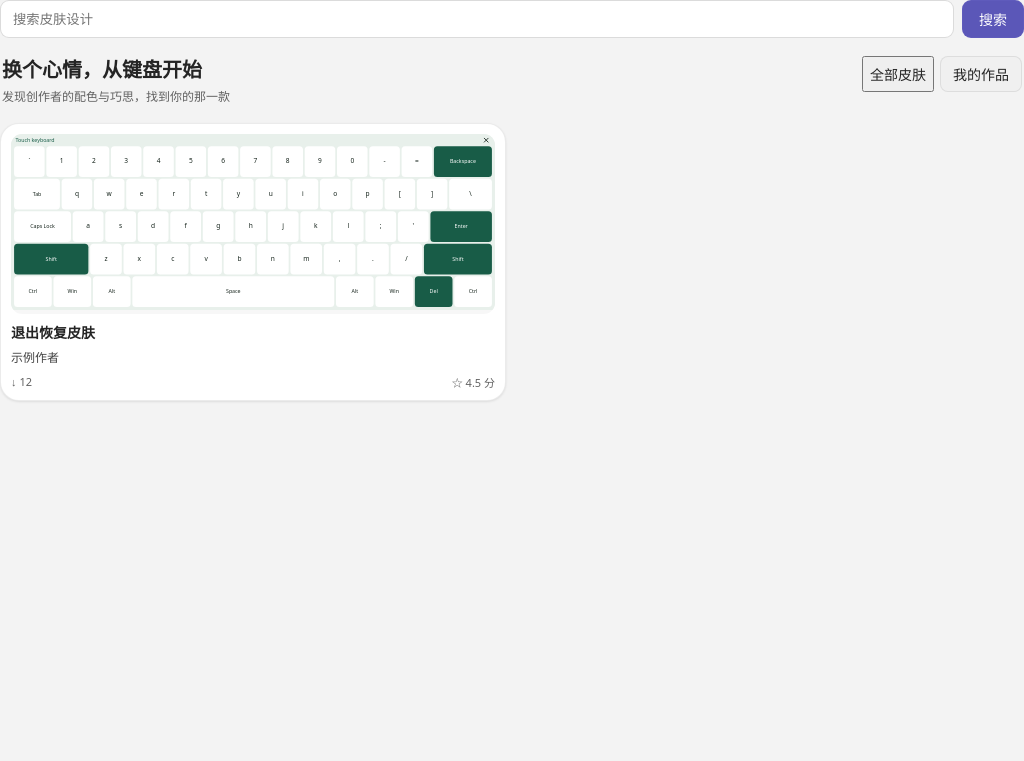
Test: leaving an active trial restores it and keeping it suppresses later recovery
Click the button with aria-label "查看皮肤 退出恢复皮肤" at (253, 262), box [0,123,506,401]
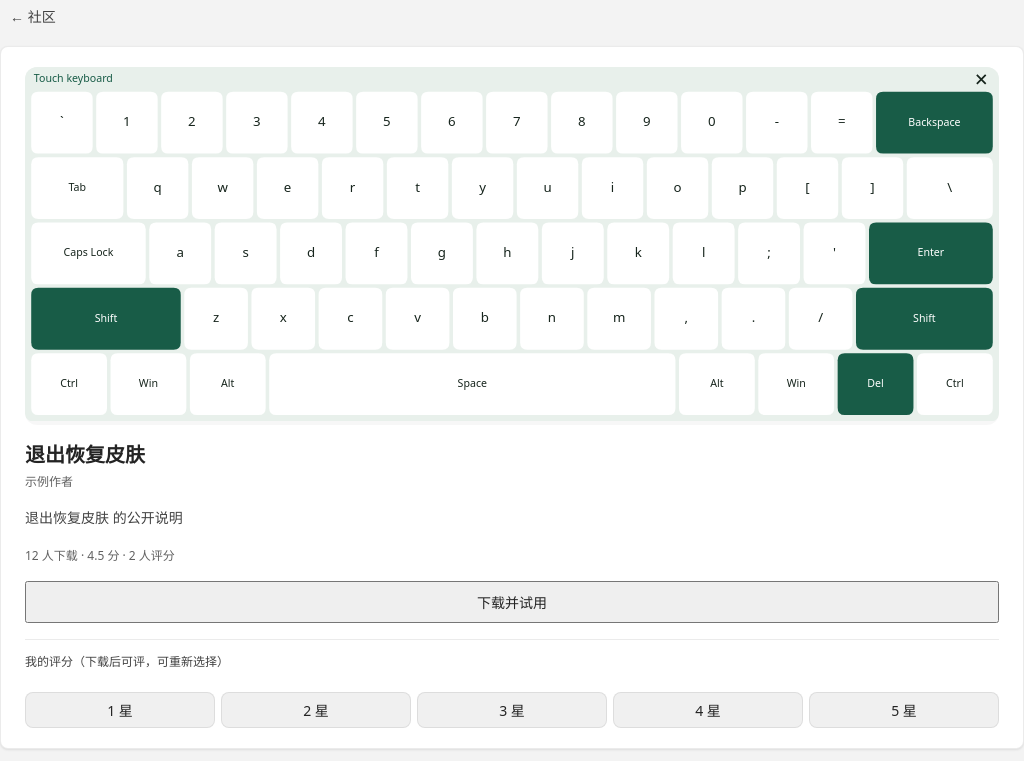
Click the button "下载并试用" at (512, 602), box [25,582,999,624]
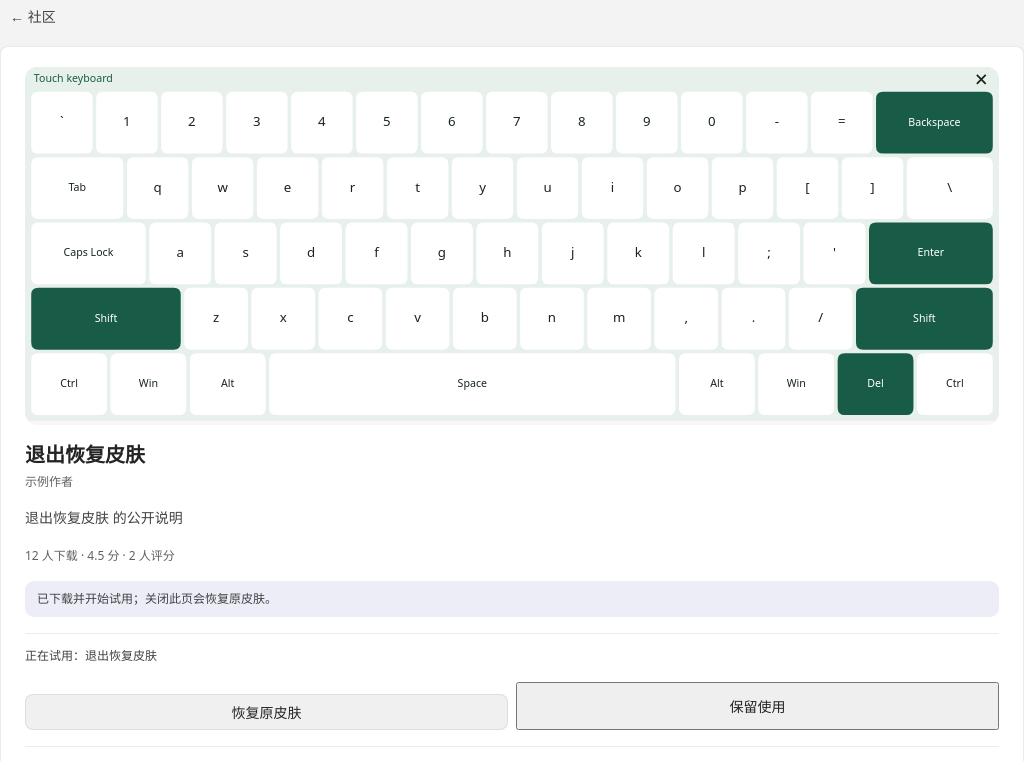
Now the button "保留使用" is shown, box [516,682,999,730]
